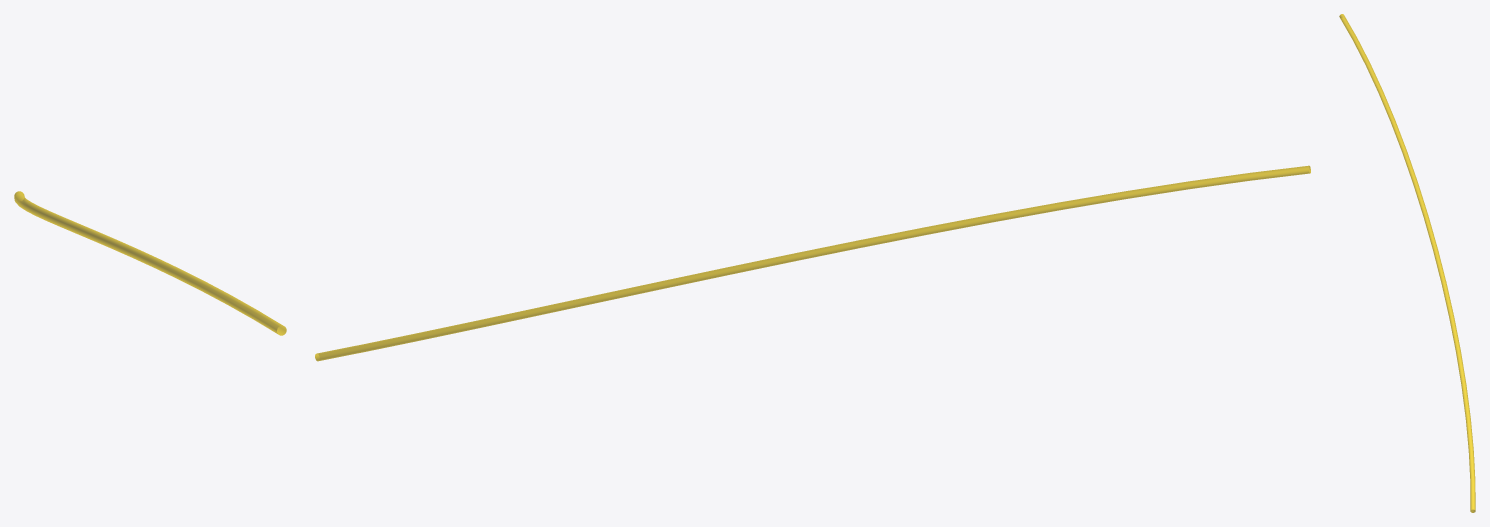
The model's file is Event_75125125_track_106.fbx.
3 views of the same model, side by side, from view 1: azimuth 90°, elevation 25°; view 2: azimuth 150°, elevation 25°; view 3: azimuth 270°, elevation 25° (orthographic). The views are drawn at different scales.
Visible parts, largest first — view 1: Model; view 2: Model; view 3: Model.
Boxes of the visible parts, left/top/right/bottom form: Model: left=14, top=191, right=286, bottom=335; Model: left=315, top=165, right=1310, bottom=361; Model: left=1339, top=14, right=1475, bottom=512.
Size of the model in its own units: 5.18 by 1.87 by 1.06.
